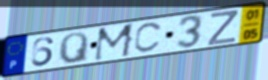3: (176, 14, 205, 51)
6: (31, 37, 56, 68)
C: (132, 21, 165, 55)
M: (92, 22, 137, 63)
Q: (58, 31, 90, 65)
Z: (206, 9, 239, 47)
